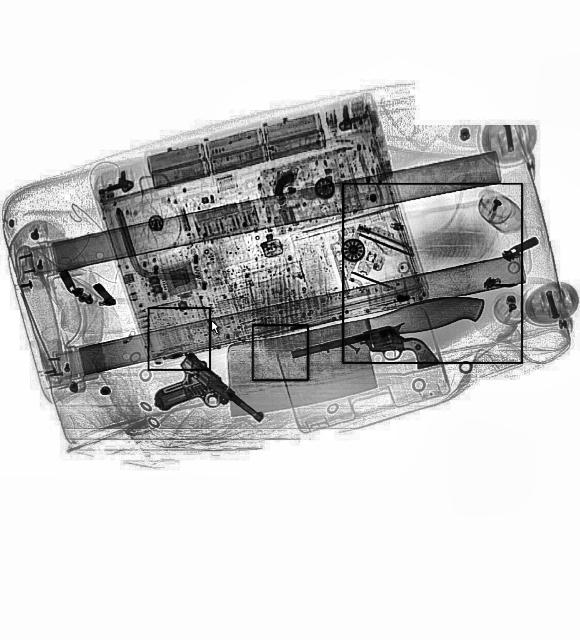Gun: (146, 350, 264, 464), (288, 314, 438, 398)
Knife: (217, 290, 496, 418)
